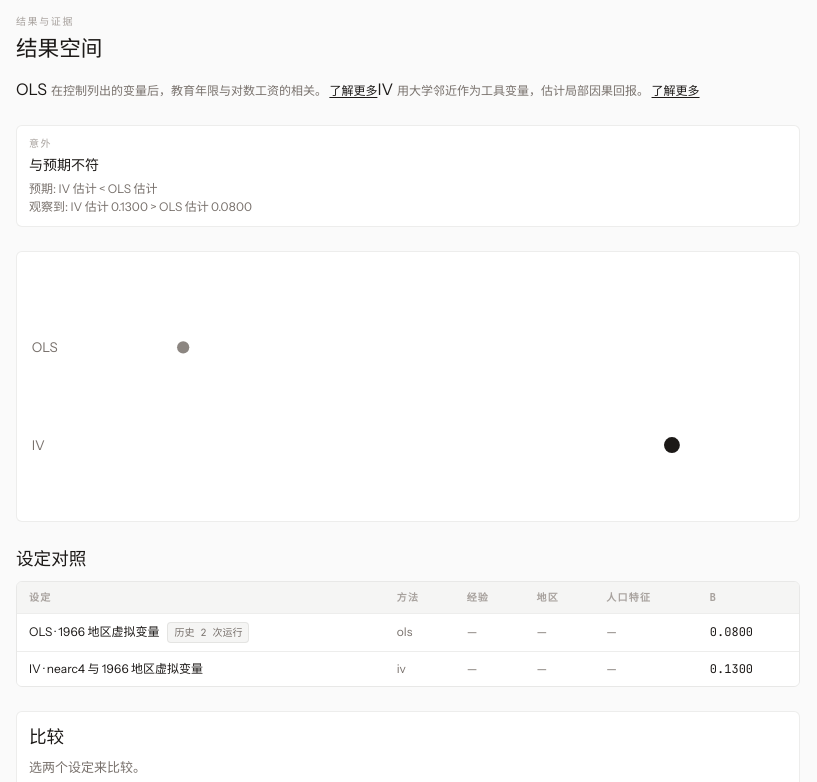
EvidenceLab › C4 Spec runs UI deduplication with multiple runs for same spec_id and history switcher
This screenshot has width=817, height=782.
expect the number of rows with test id "evidence-matrix-ols_region_dummies" is 1: met, box x1=17 y1=613 x2=799 y2=651
expect the row with test id "evidence-matrix-ols_region_dummies" shows "0.0800": met, box x1=710 y1=624 x2=753 y2=640
Click the button with test id "evidence-history-ols_region_dummies" at (208, 632), box x1=167 y1=622 x2=249 y2=643
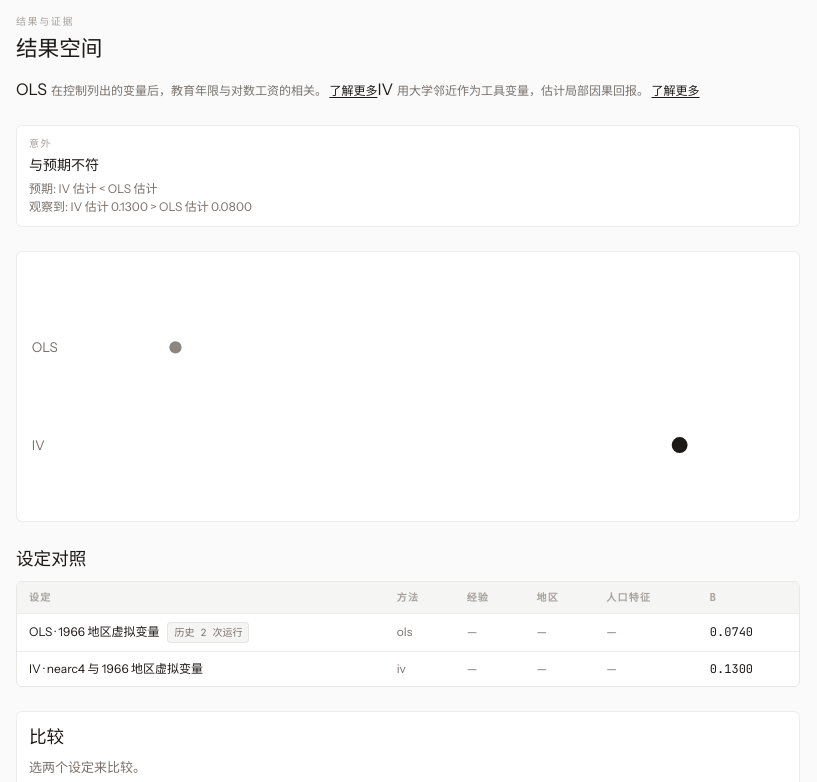
expect the row with test id "evidence-matrix-ols_region_dummies" shows "0.0740": met, box x1=710 y1=624 x2=753 y2=640
